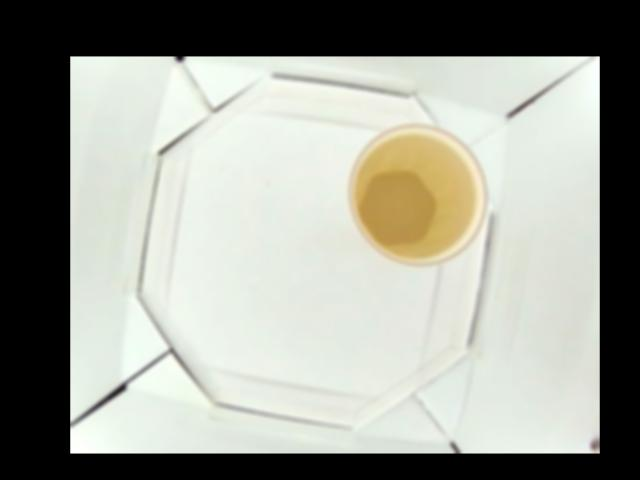Cup: (349, 122, 488, 265)
